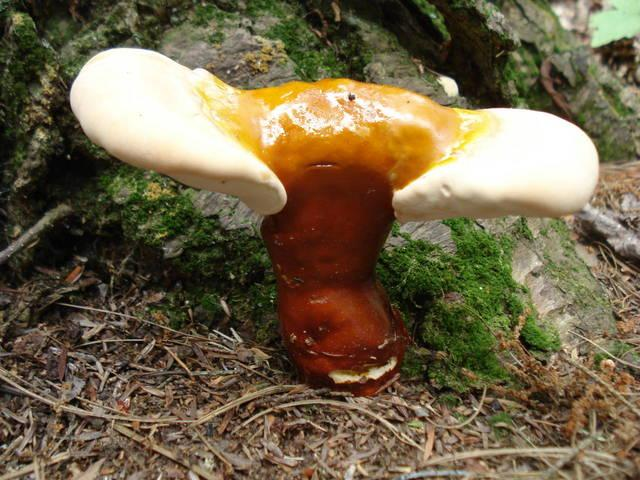Non-edible Mushroom: (67, 44, 601, 398)
